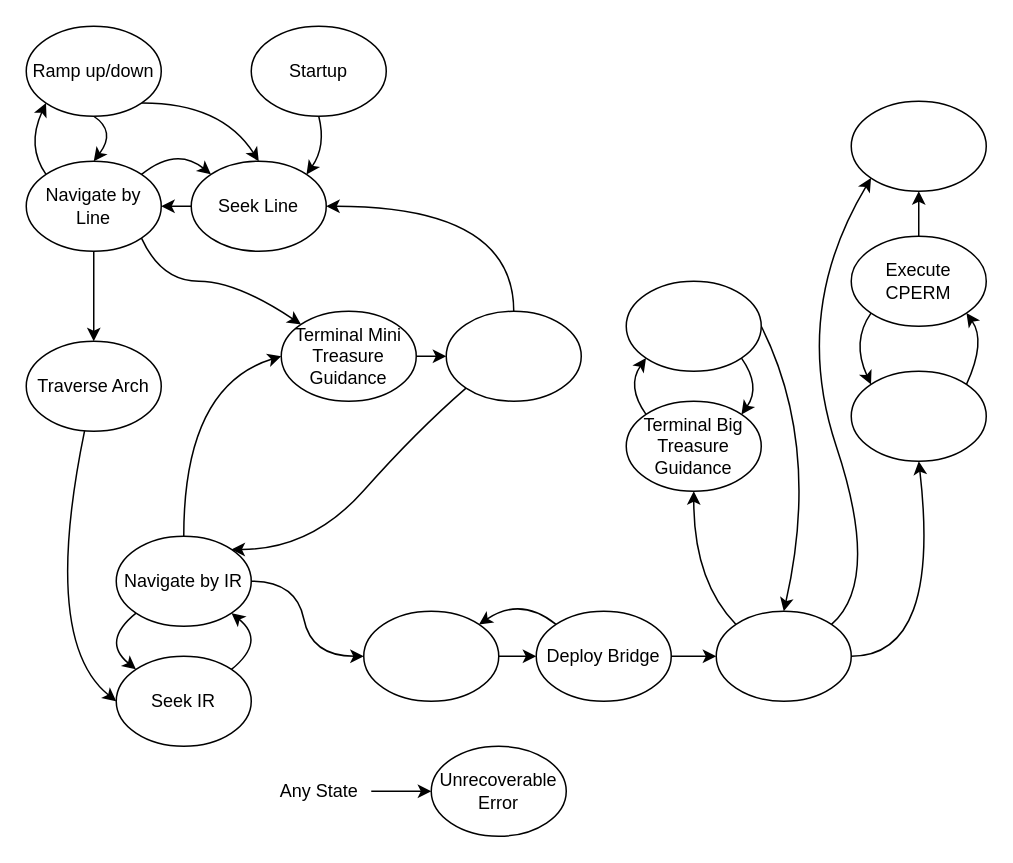
Some shapes in this 1013 by 863 pixel diagram are drawn without their labels. Each missing label, with the box of its shape:
Big Treasure Capture: (625, 280, 761, 371)
Mini Treasure Capture: (445, 310, 581, 401)
Navigate by Faith/Edges: (715, 610, 851, 701)
Party: (850, 100, 986, 191)
Seek Bridge Alignment: (362, 610, 499, 701)
Seek CPERM Position: (850, 370, 986, 461)
